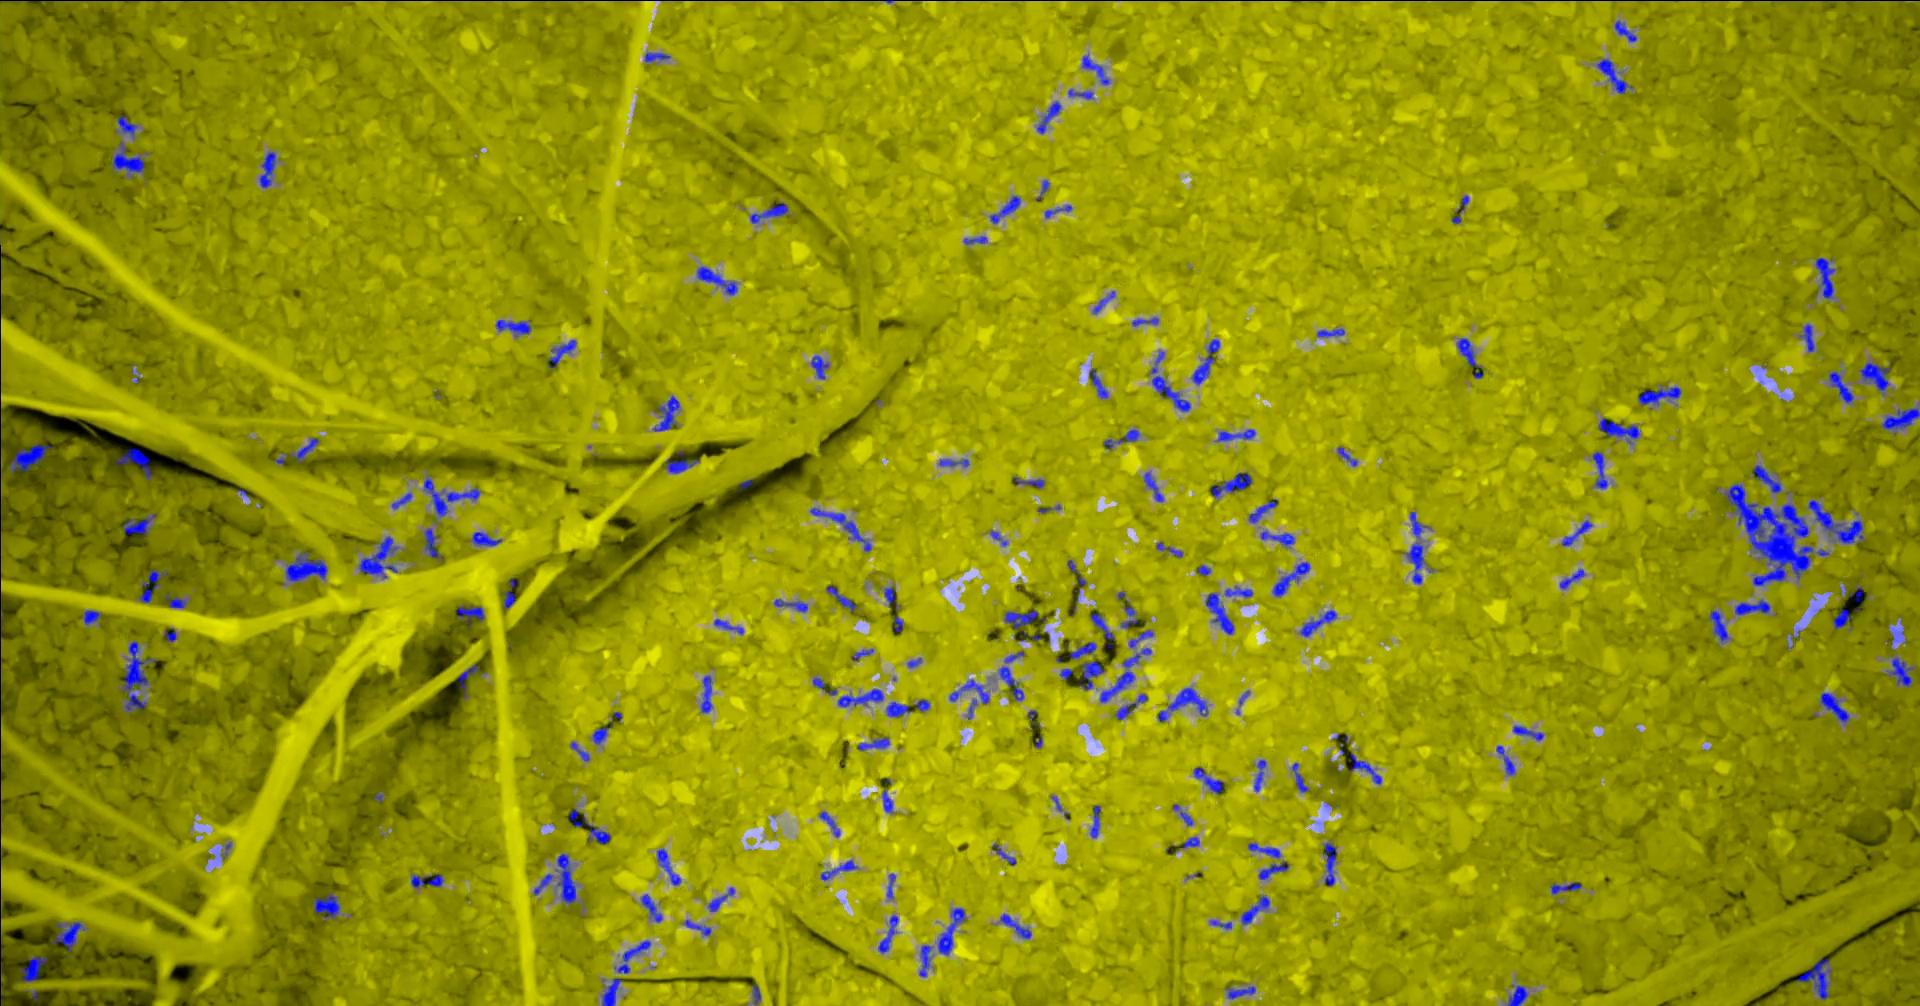ant: (1101, 647, 1153, 702), (811, 507, 872, 551), (123, 640, 159, 710), (1810, 499, 1865, 542), (1153, 351, 1192, 412), (425, 476, 481, 516), (1407, 511, 1432, 583), (1159, 687, 1210, 721), (361, 536, 399, 577), (570, 808, 612, 843), (1798, 956, 1832, 998), (1192, 338, 1222, 384), (938, 907, 966, 954), (1274, 561, 1310, 596), (287, 551, 329, 580), (1597, 58, 1633, 93), (10, 443, 53, 471), (1001, 650, 1025, 700), (698, 265, 739, 295), (113, 141, 146, 177), (616, 940, 651, 973), (1208, 592, 1236, 634), (1006, 608, 1043, 640), (117, 447, 152, 479), (1458, 337, 1484, 379), (1600, 417, 1641, 443), (1883, 406, 1920, 434), (1302, 608, 1338, 636), (1211, 473, 1253, 497), (1350, 753, 1383, 784), (53, 921, 86, 951), (140, 569, 169, 602), (654, 395, 681, 431), (557, 854, 577, 903), (950, 680, 990, 702), (1091, 612, 1116, 648), (1862, 362, 1891, 392), (658, 848, 682, 885), (990, 196, 1022, 224), (1116, 694, 1149, 720), (1821, 692, 1850, 721), (1083, 53, 1111, 84), (1037, 100, 1063, 133), (1639, 386, 1683, 405), (1754, 464, 1783, 492), (1242, 895, 1271, 923), (1888, 655, 1915, 686), (839, 688, 885, 706), (1830, 371, 1855, 403), (1817, 257, 1836, 298), (752, 202, 789, 224), (822, 859, 858, 880), (667, 450, 701, 473), (549, 339, 577, 367), (828, 586, 857, 612), (1195, 766, 1224, 793), (1563, 520, 1594, 545), (879, 915, 899, 953), (314, 892, 342, 918), (1002, 913, 1032, 937), (458, 663, 479, 699), (22, 955, 50, 981), (1250, 498, 1279, 522), (1081, 661, 1105, 690), (1105, 429, 1142, 448), (709, 887, 737, 911), (124, 513, 157, 533), (295, 437, 320, 462), (497, 319, 532, 337), (1592, 451, 1609, 488), (1710, 610, 1730, 641), (1324, 842, 1338, 885), (643, 893, 663, 922), (603, 977, 623, 1005), (1090, 368, 1109, 398), (1497, 746, 1516, 775), (262, 151, 277, 187), (425, 527, 443, 558), (458, 605, 485, 625), (1293, 762, 1310, 793), (1260, 861, 1290, 879), (1145, 473, 1164, 500), (1095, 290, 1117, 312), (993, 843, 1017, 865), (1561, 568, 1586, 588), (1250, 842, 1283, 857), (1218, 428, 1257, 441), (1453, 196, 1470, 224), (1736, 600, 1771, 614), (1514, 725, 1545, 741), (822, 810, 841, 836), (1262, 531, 1297, 545), (775, 598, 809, 612), (1069, 559, 1087, 586), (472, 531, 503, 546), (505, 578, 521, 608), (715, 619, 745, 634), (411, 873, 444, 887), (919, 944, 933, 977), (811, 354, 830, 379), (1130, 629, 1156, 647), (1070, 641, 1097, 658), (1617, 20, 1638, 41), (118, 114, 138, 136), (535, 873, 554, 895), (1801, 323, 1816, 351), (684, 920, 712, 935), (1158, 541, 1183, 558), (858, 737, 891, 749), (1338, 446, 1359, 466), (1509, 984, 1529, 1005), (1255, 760, 1267, 791), (702, 674, 712, 713), (571, 741, 590, 761), (1227, 986, 1257, 998), (1123, 605, 1139, 627), (1046, 205, 1073, 218), (1552, 882, 1583, 893), (1834, 608, 1851, 629), (888, 701, 910, 716), (392, 492, 413, 508), (1225, 586, 1255, 597), (1015, 476, 1046, 486), (1092, 805, 1102, 837), (883, 789, 895, 812), (166, 593, 187, 607), (853, 648, 875, 661), (1846, 586, 1864, 601), (594, 727, 610, 744), (84, 610, 103, 624), (1133, 318, 1161, 326), (1318, 328, 1346, 337), (646, 52, 670, 62), (1070, 89, 1095, 99), (940, 459, 971, 466), (888, 873, 897, 898), (965, 235, 989, 244), (1183, 836, 1201, 847), (886, 586, 897, 605), (916, 699, 931, 711), (1211, 920, 1233, 929), (753, 984, 762, 1005), (165, 627, 178, 641), (893, 616, 904, 631), (1197, 565, 1211, 575), (1, 0, 55, 1)
